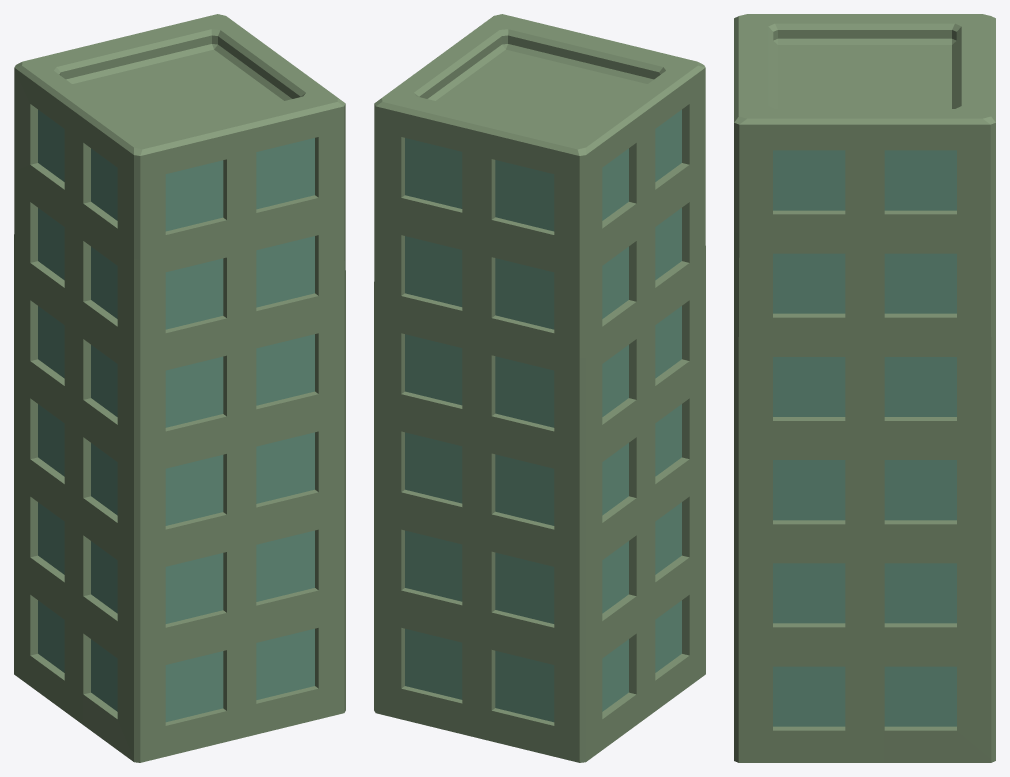
Rendered from building3.fbx.
3 views of the same model, side by side, from view 1: azimuth 30°, elevation 25°; view 2: azimuth 150°, elevation 25°; view 3: azimuth 270°, elevation 25° (orthographic). The views are drawn at different scales.
Visible parts, largest first — view 1: building3; view 2: building3; view 3: building3.
Part boxes in pixels (bbox=[...]): building3: bbox=[14, 14, 345, 762]; building3: bbox=[374, 14, 705, 762]; building3: bbox=[734, 14, 995, 762].
Bounding box in the file's own units: 3498 × 9638 × 3561.
